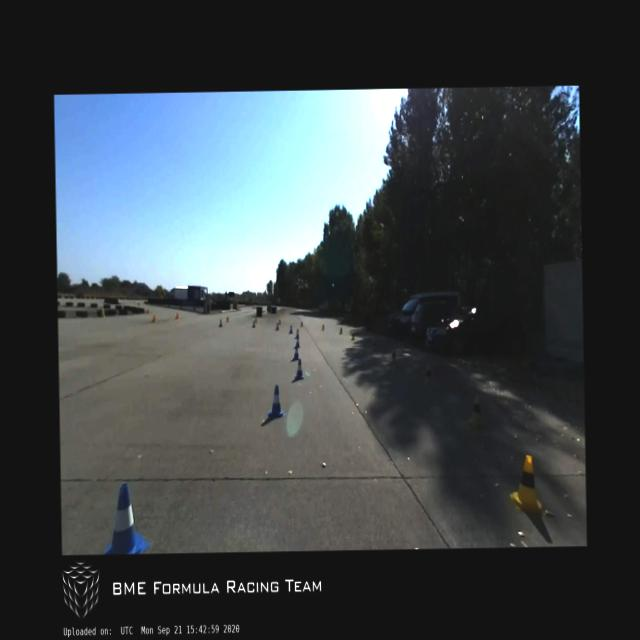blue_cone: (102, 482, 151, 554), (266, 384, 284, 421), (293, 358, 304, 380), (292, 346, 299, 361), (294, 328, 300, 340), (288, 324, 294, 334), (295, 336, 300, 348), (250, 318, 254, 328), (218, 318, 222, 327), (274, 322, 278, 331)
orange_cone: (152, 314, 156, 322), (174, 312, 178, 318)
yellow_cone: (508, 453, 544, 514), (466, 392, 484, 426), (388, 346, 398, 366), (423, 362, 432, 384), (372, 340, 378, 350), (338, 326, 342, 334), (350, 332, 354, 340), (321, 324, 324, 331), (300, 320, 302, 327), (226, 316, 228, 322), (278, 318, 280, 324), (254, 318, 256, 323)
